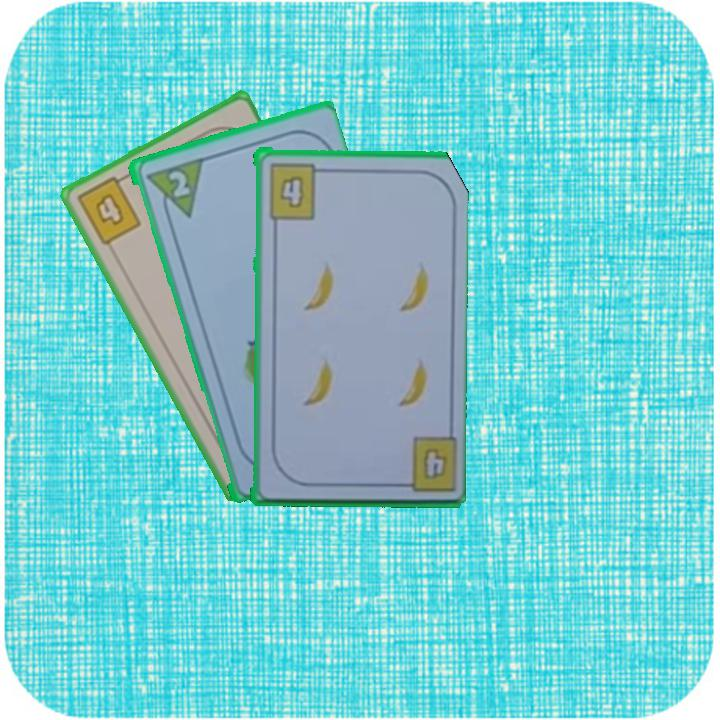2p: (164, 166, 193, 200)
4b: (72, 170, 144, 248), (391, 432, 456, 494), (264, 159, 327, 220)
